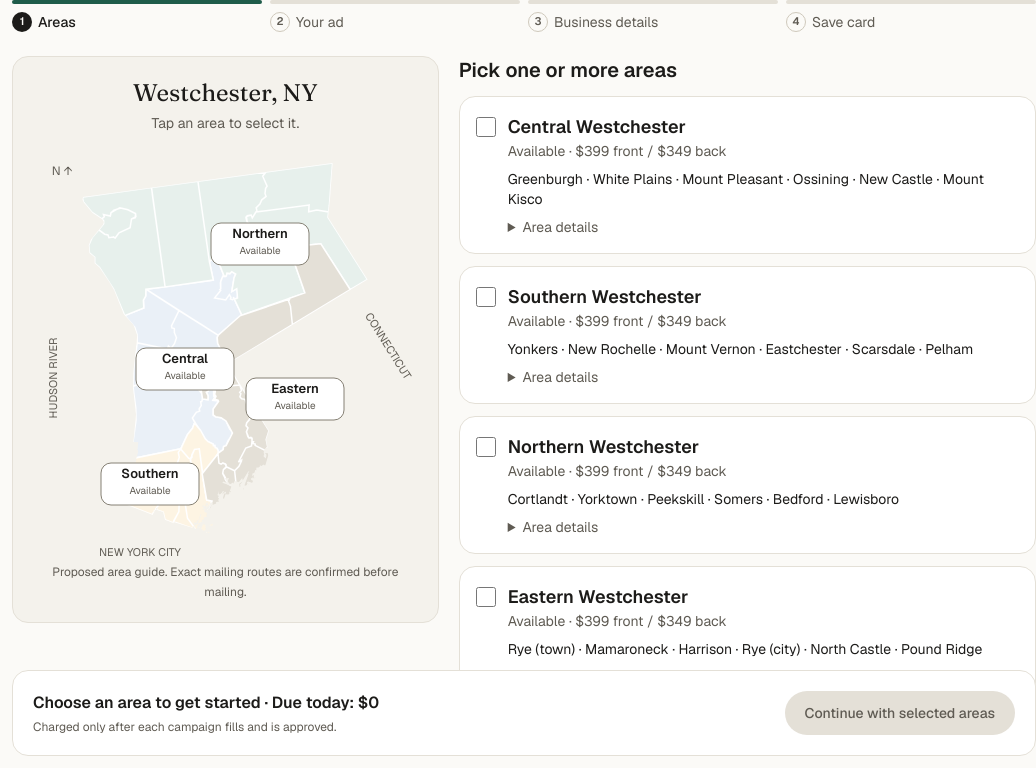
Test: lost square race refreshes availability without substituting another position
What coordinates should you click on to do the following:
click the checkbox labelled "Central"
I would click on:
 (486, 127)
Its box is [476,117,496,137].
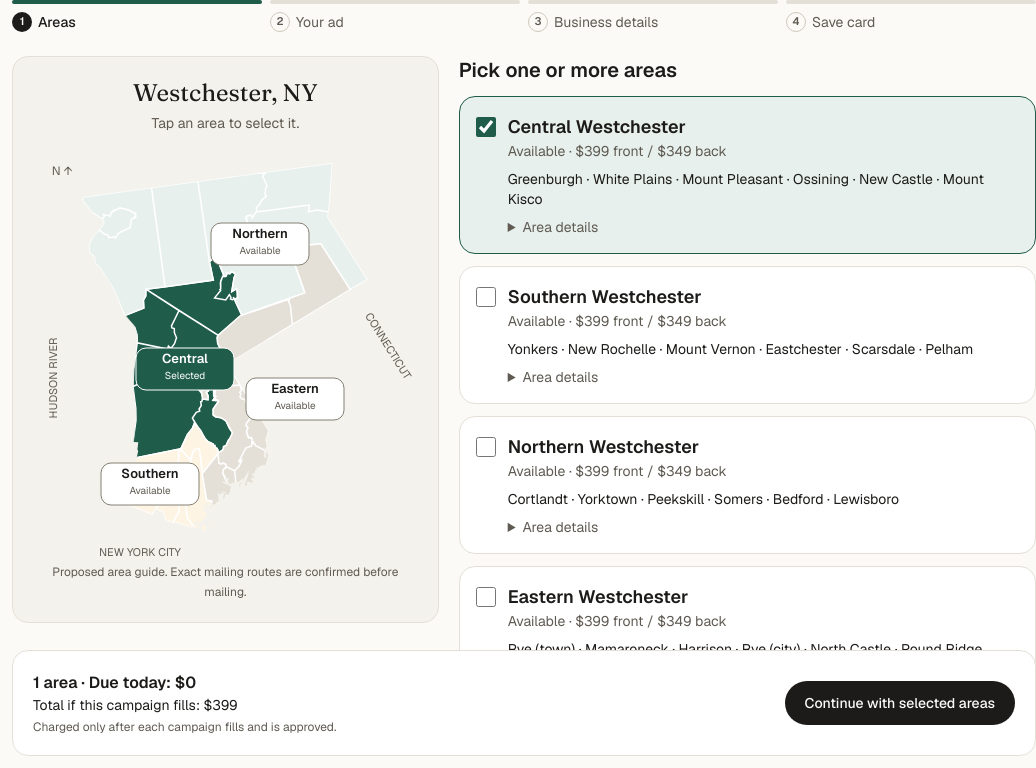
What coordinates should you click on to do the following:
click the button "Continue with selected areas"
I would click on:
 (900, 703)
Its box is [784,681,1015,725].
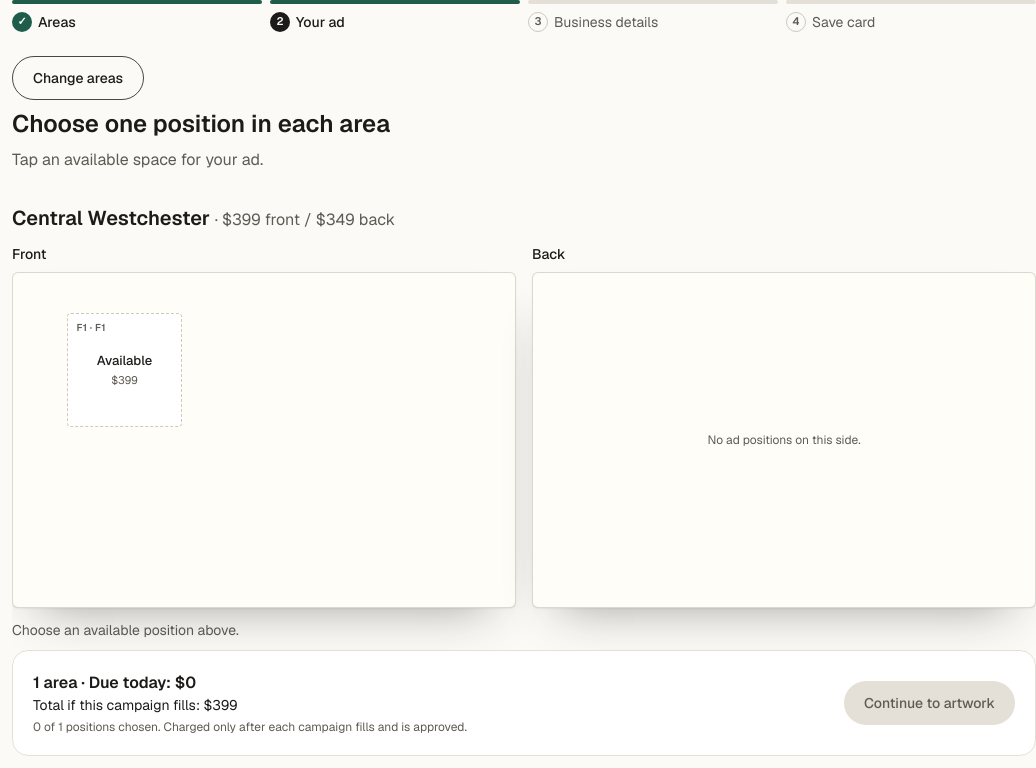
What coordinates should you click on to do the following:
click the button with aria-label "position F1:"
I would click on:
 (124, 370)
Its box is [55,301,194,440].
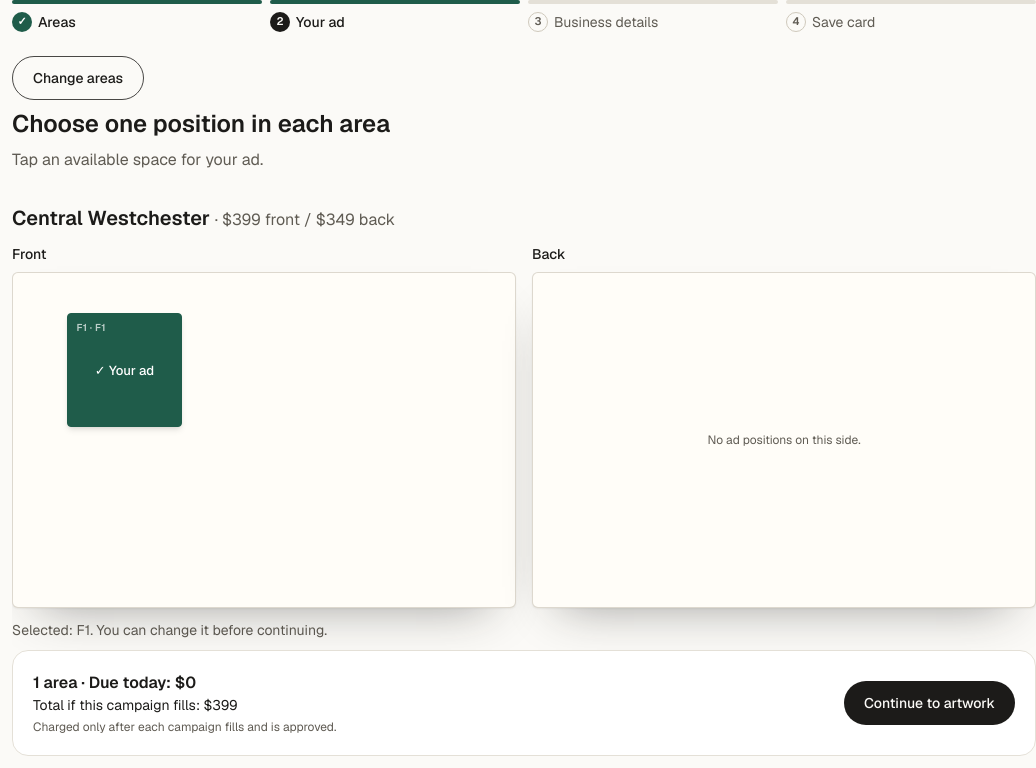
What coordinates should you click on to do the following:
click the button "Continue to artwork"
I would click on:
 (930, 703)
Its box is [844,681,1015,725].
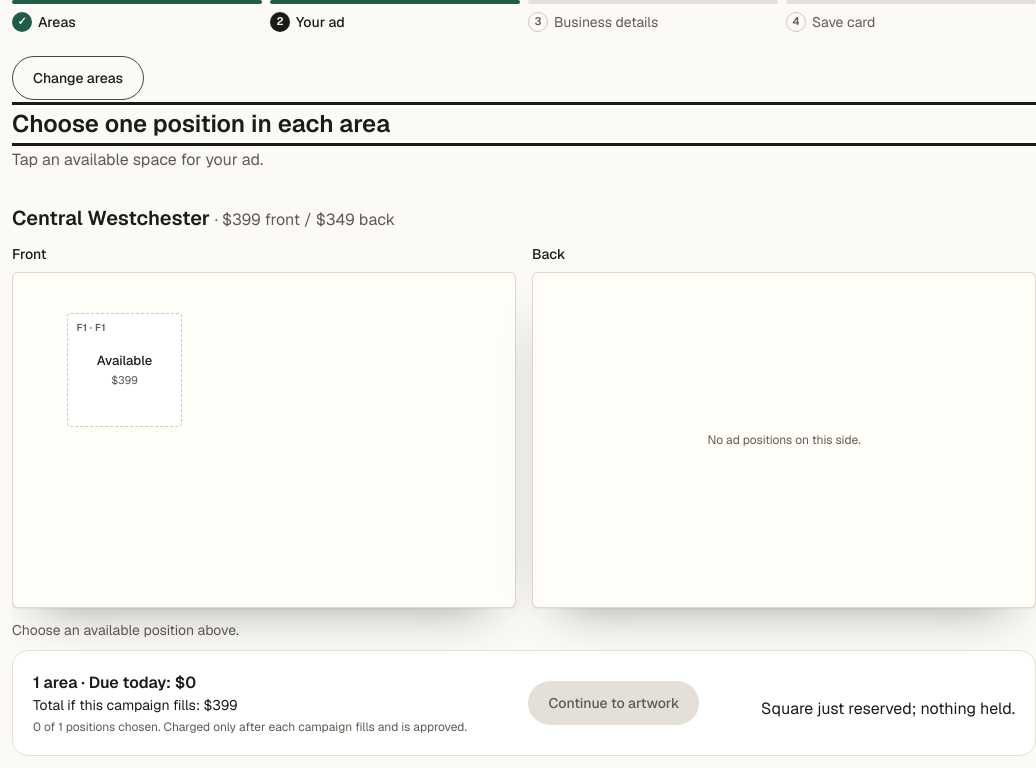
Check: the message shows "nothing held", box [761,698,1015,719]
